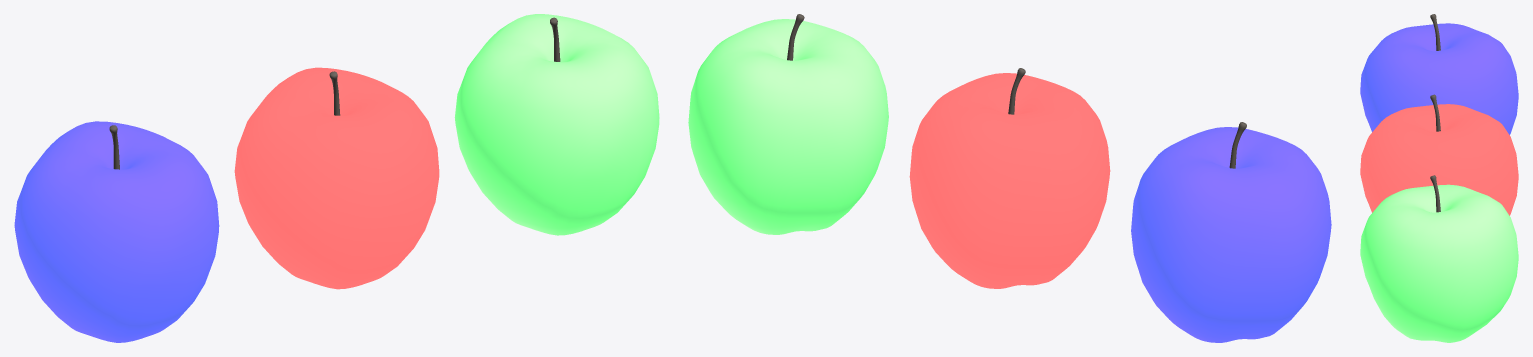
File: apple01.glb
The picture shows the model from 3 angles, left to right: view 1: azimuth 30°, elevation 25°; view 2: azimuth 150°, elevation 25°; view 3: azimuth 270°, elevation 25°; orthographic projection. The views are drawn at different scales.
Visible parts, largest first — view 1: Apple (×3); view 2: Apple (×3); view 3: Apple (×3), Stem (×3).
Part boxes in pixels (x1,y1,x2,y2): Apple (×3): (14, 14, 659, 342); Apple (×3): (688, 19, 1331, 342); Apple (×3): (1360, 23, 1518, 342); Stem (×3): (1430, 14, 1440, 212).
Size of the model in its own units: 0.2789 by 0.0894 by 0.0831.
